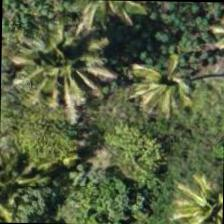Kelapa_Sawit: (122, 32, 215, 124), (21, 12, 113, 104), (169, 161, 223, 223)
